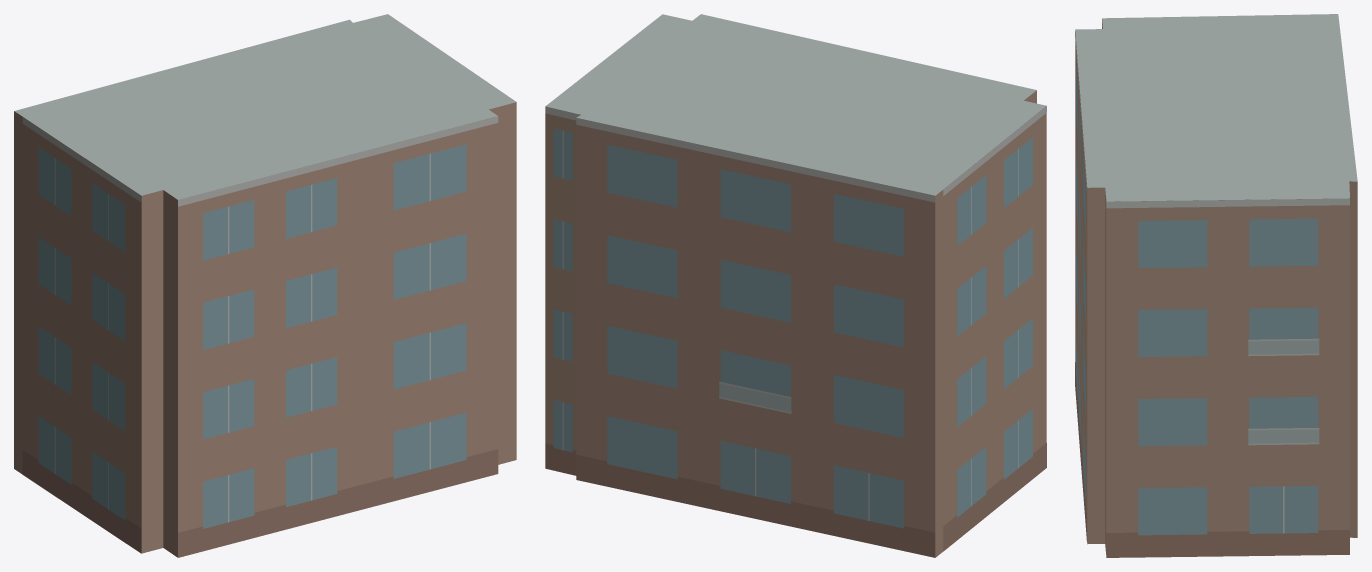
File: survey-upis-32732773.glb
3 views of the same model, side by side, from view 1: azimuth 30°, elevation 25°; view 2: azimuth 150°, elevation 25°; view 3: azimuth 270°, elevation 25° (orthographic).
Parts seen in each view (by area): view 1: survey-upis-32732773.tmp; view 2: survey-upis-32732773.tmp; view 3: survey-upis-32732773.tmp.
Part boxes in pixels (left/top/right/bottom): survey-upis-32732773.tmp: left=14, top=14, right=516, bottom=557; survey-upis-32732773.tmp: left=545, top=14, right=1046, bottom=557; survey-upis-32732773.tmp: left=1075, top=14, right=1357, bottom=557.
Size of the model in its own units: 14.46 by 12.8 by 9.21.
